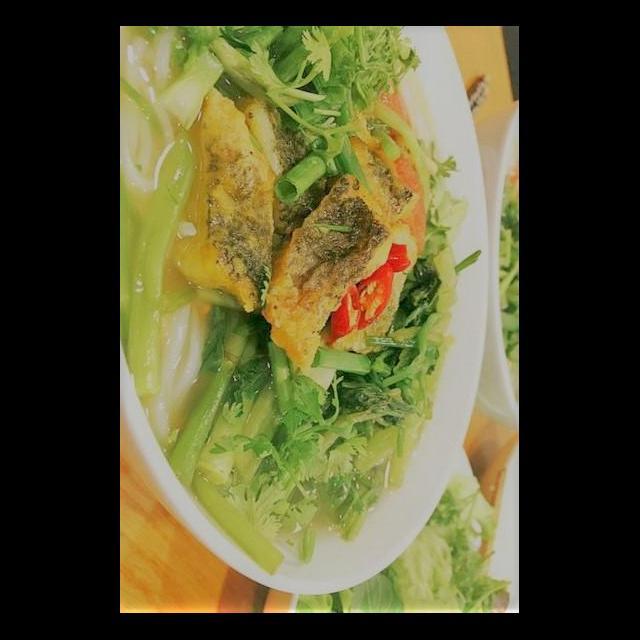bun: (121, 28, 208, 464)
bun ca: (121, 64, 492, 607)
ca: (254, 158, 402, 378), (162, 70, 282, 324)
